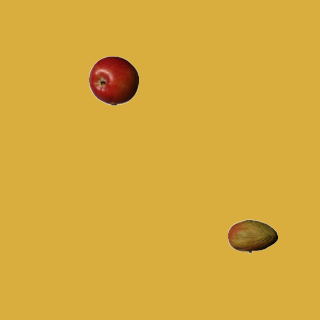Apple Braeburn: (88, 55, 138, 105)
Papaya: (227, 211, 277, 261)
